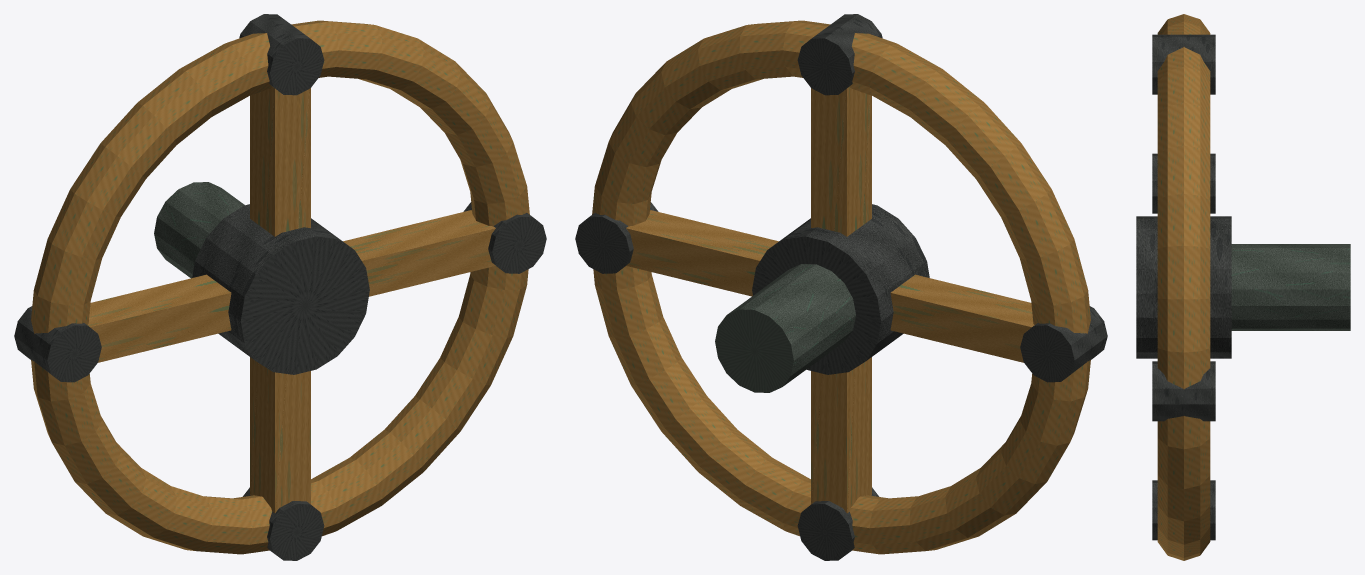
The model's file is SM_ValveWheel_Prop.obj.
3 views of the same model, side by side, from view 1: azimuth 30°, elevation 25°; view 2: azimuth 150°, elevation 25°; view 3: azimuth 270°, elevation 25° (orthographic). The views are drawn at different scales.
Parts seen in each view (by area): view 1: Brass_OuterWheelRing, Iron_CenterHub, Vertical_Spoke, Horizontal_Spoke, Wheel_HandleKnobs, Valve_Stem; view 2: Brass_OuterWheelRing, Vertical_Spoke, Horizontal_Spoke, Wheel_HandleKnobs, Iron_CenterHub, Valve_Stem; view 3: Brass_OuterWheelRing, Valve_Stem, Iron_CenterHub, Wheel_HandleKnobs.
Part boxes in pixels (<box>): Brass_OuterWheelRing: <box>31,20,529,554</box>; Iron_CenterHub: <box>192,204,369,374</box>; Vertical_Spoke: <box>250,86,310,513</box>; Horizontal_Spoke: <box>87,210,495,362</box>; Wheel_HandleKnobs: <box>14,14,546,560</box>; Valve_Stem: <box>154,182,244,278</box>; Brass_OuterWheelRing: <box>592,20,1090,554</box>; Vertical_Spoke: <box>811,86,871,513</box>; Horizontal_Spoke: <box>626,210,1034,362</box>; Wheel_HandleKnobs: <box>575,14,1107,560</box>; Iron_CenterHub: <box>752,204,929,374</box>; Valve_Stem: <box>715,264,855,392</box>; Brass_OuterWheelRing: <box>1157,14,1210,560</box>; Valve_Stem: <box>1231,244,1350,330</box>; Iron_CenterHub: <box>1136,216,1231,358</box>; Wheel_HandleKnobs: <box>1152,34,1215,540</box>.
Bounding box in the file's own units: 0.696 × 0.696 × 0.27.
Materials: 3 (3 with a texture image).
